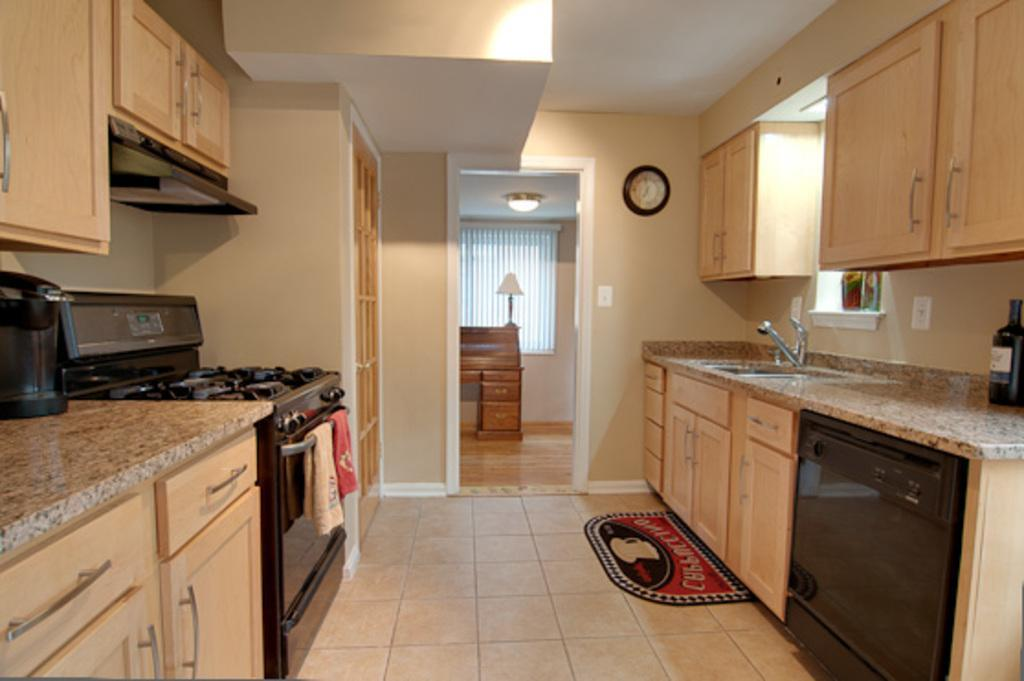door: (354, 168, 378, 494)
